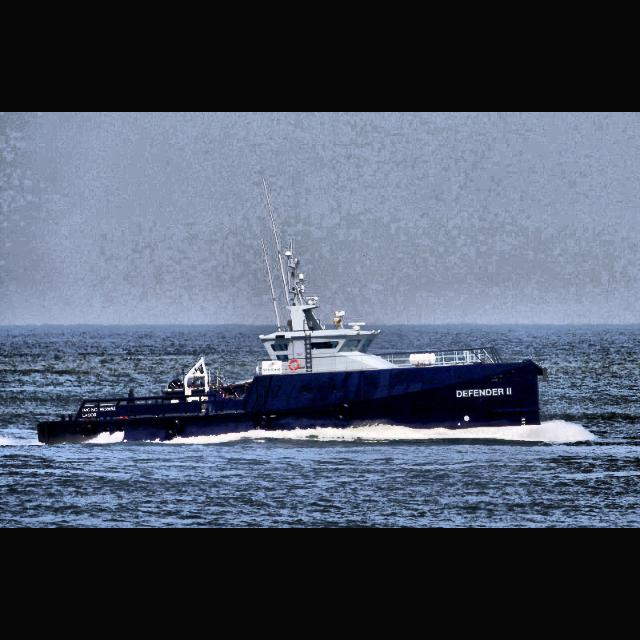patrol_vessel: (35, 237, 549, 446)
